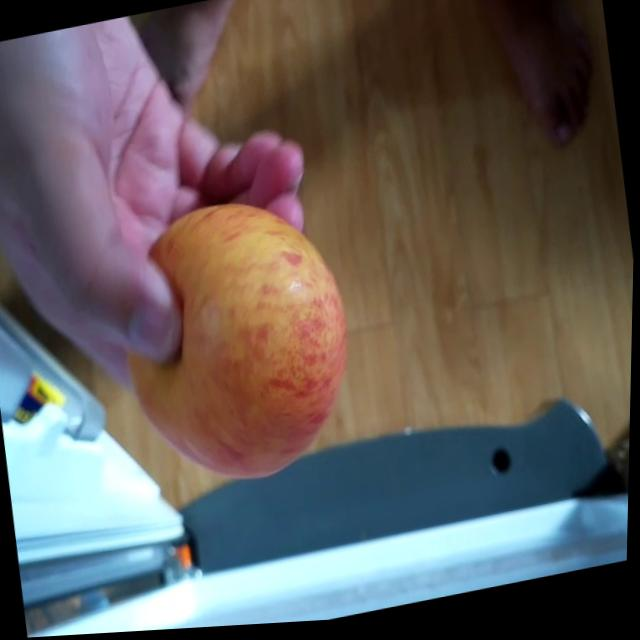apple: (111, 185, 372, 508)
